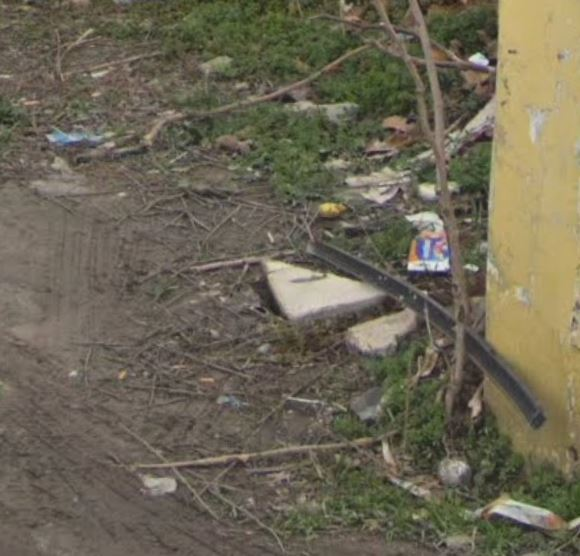trash: (489, 486, 567, 539), (405, 208, 456, 287), (36, 124, 107, 147), (311, 194, 356, 223), (465, 40, 492, 73)
